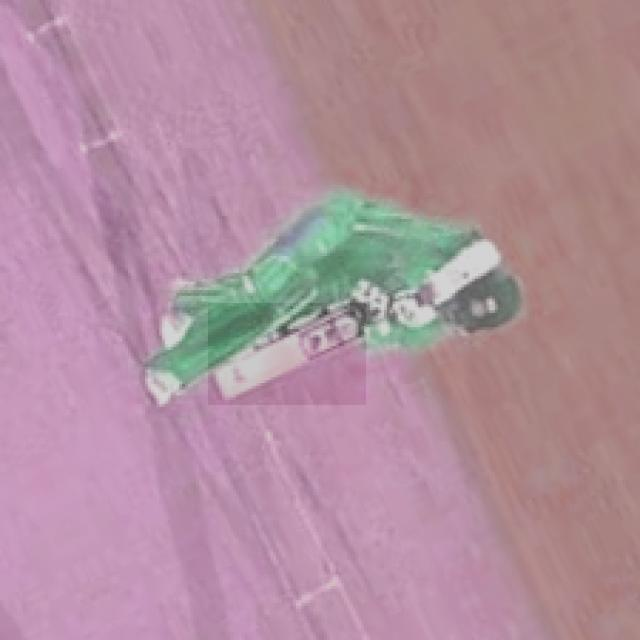bat: (198, 306, 370, 407)
toe: (209, 366, 228, 401)
